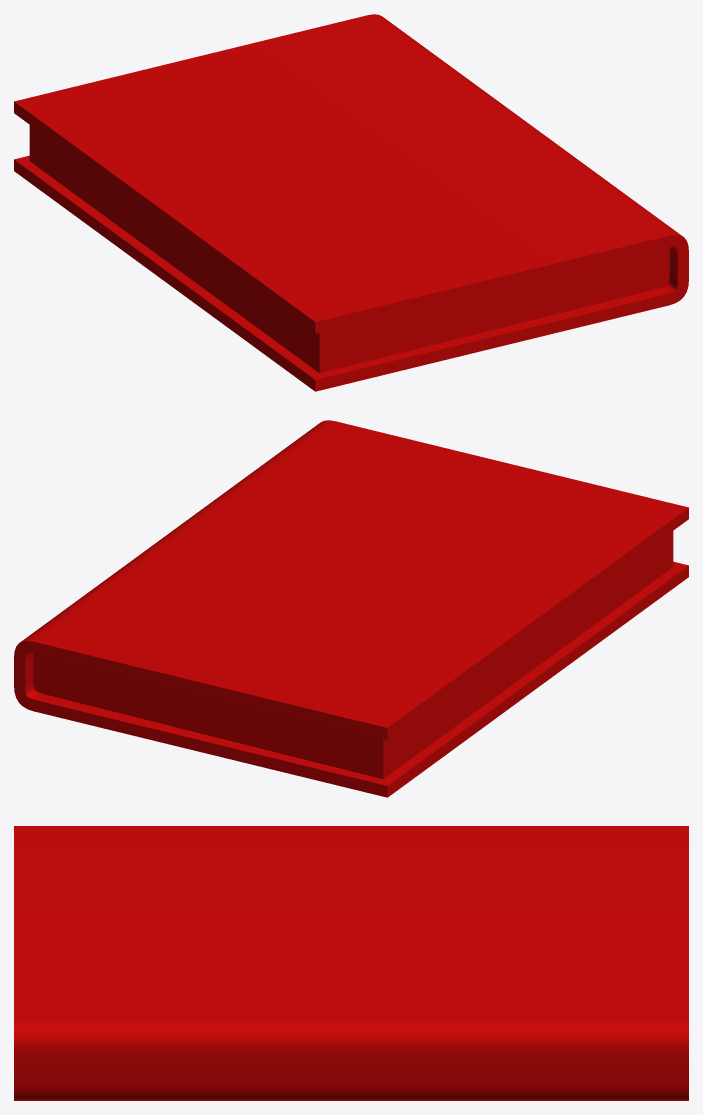
The model's file is Book.FBX.
3 views of the same model, one above another, from view 1: azimuth 30°, elevation 25°; view 2: azimuth 150°, elevation 25°; view 3: azimuth 270°, elevation 25° (orthographic). The views are drawn at different scales.
Parts seen in each view (by area): view 1: Box001; view 2: Box001; view 3: Box001.
Part boxes in pixels (<box>): Box001: <box>14,14,688,391</box>; Box001: <box>14,420,688,797</box>; Box001: <box>14,826,688,1100</box>.
Bounding box in the file's own units: 5.17 × 0.92 × 7.22.
